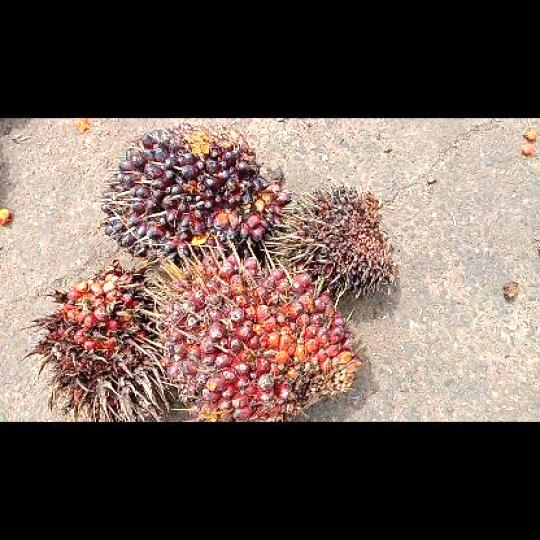kurang masak: (98, 125, 291, 270)
masak: (148, 253, 366, 419)
terlalu masak: (18, 258, 175, 420)
